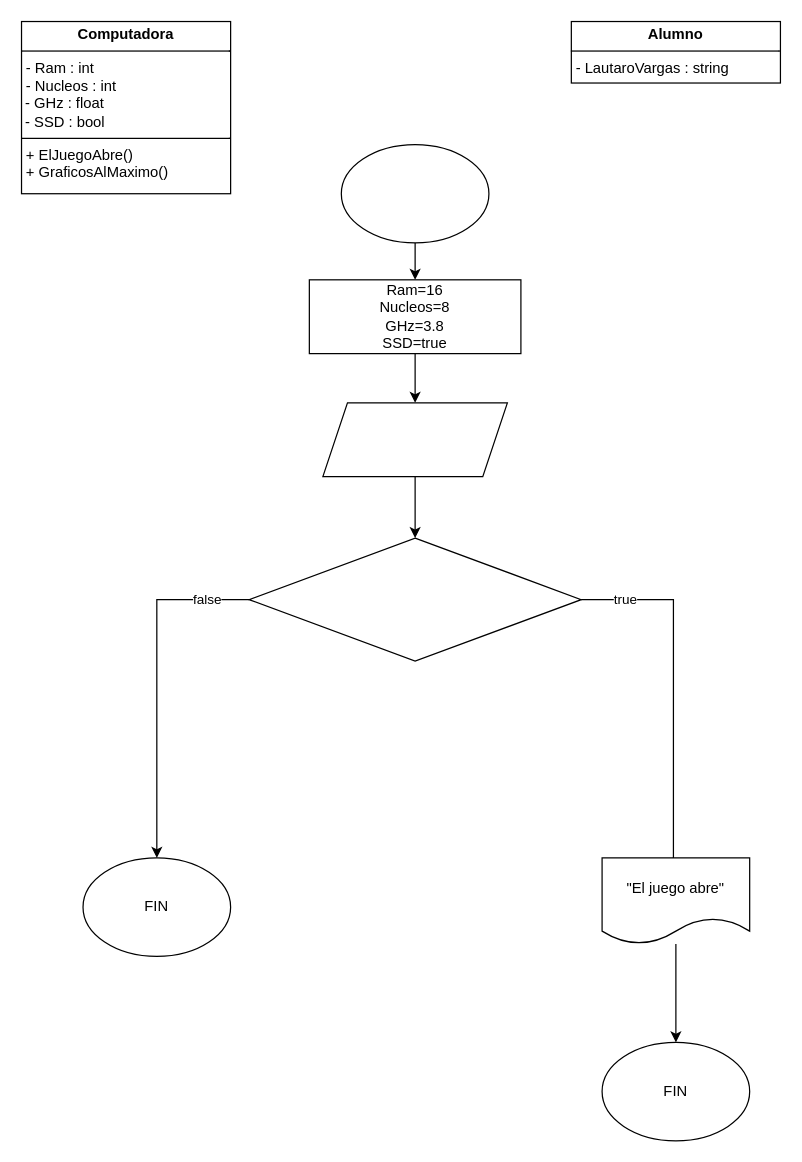
This 802x1162 diagram has some shape labels left out. Each missing label, with the centre of its shape:
ElJuegoAbre(): pixel 414 193
getRam getSSD: pixel 414 439
while (Ram >= 8 && SSD = true);: pixel 414 599
